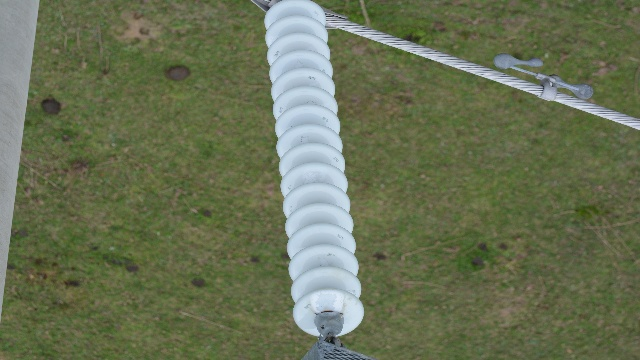insulator_unspecified: (262, 1, 363, 335)
pollution_flashover_local: (311, 290, 348, 314), (305, 170, 326, 184), (313, 256, 331, 266), (301, 135, 312, 144), (293, 60, 304, 69), (308, 81, 318, 87), (307, 100, 317, 104)
